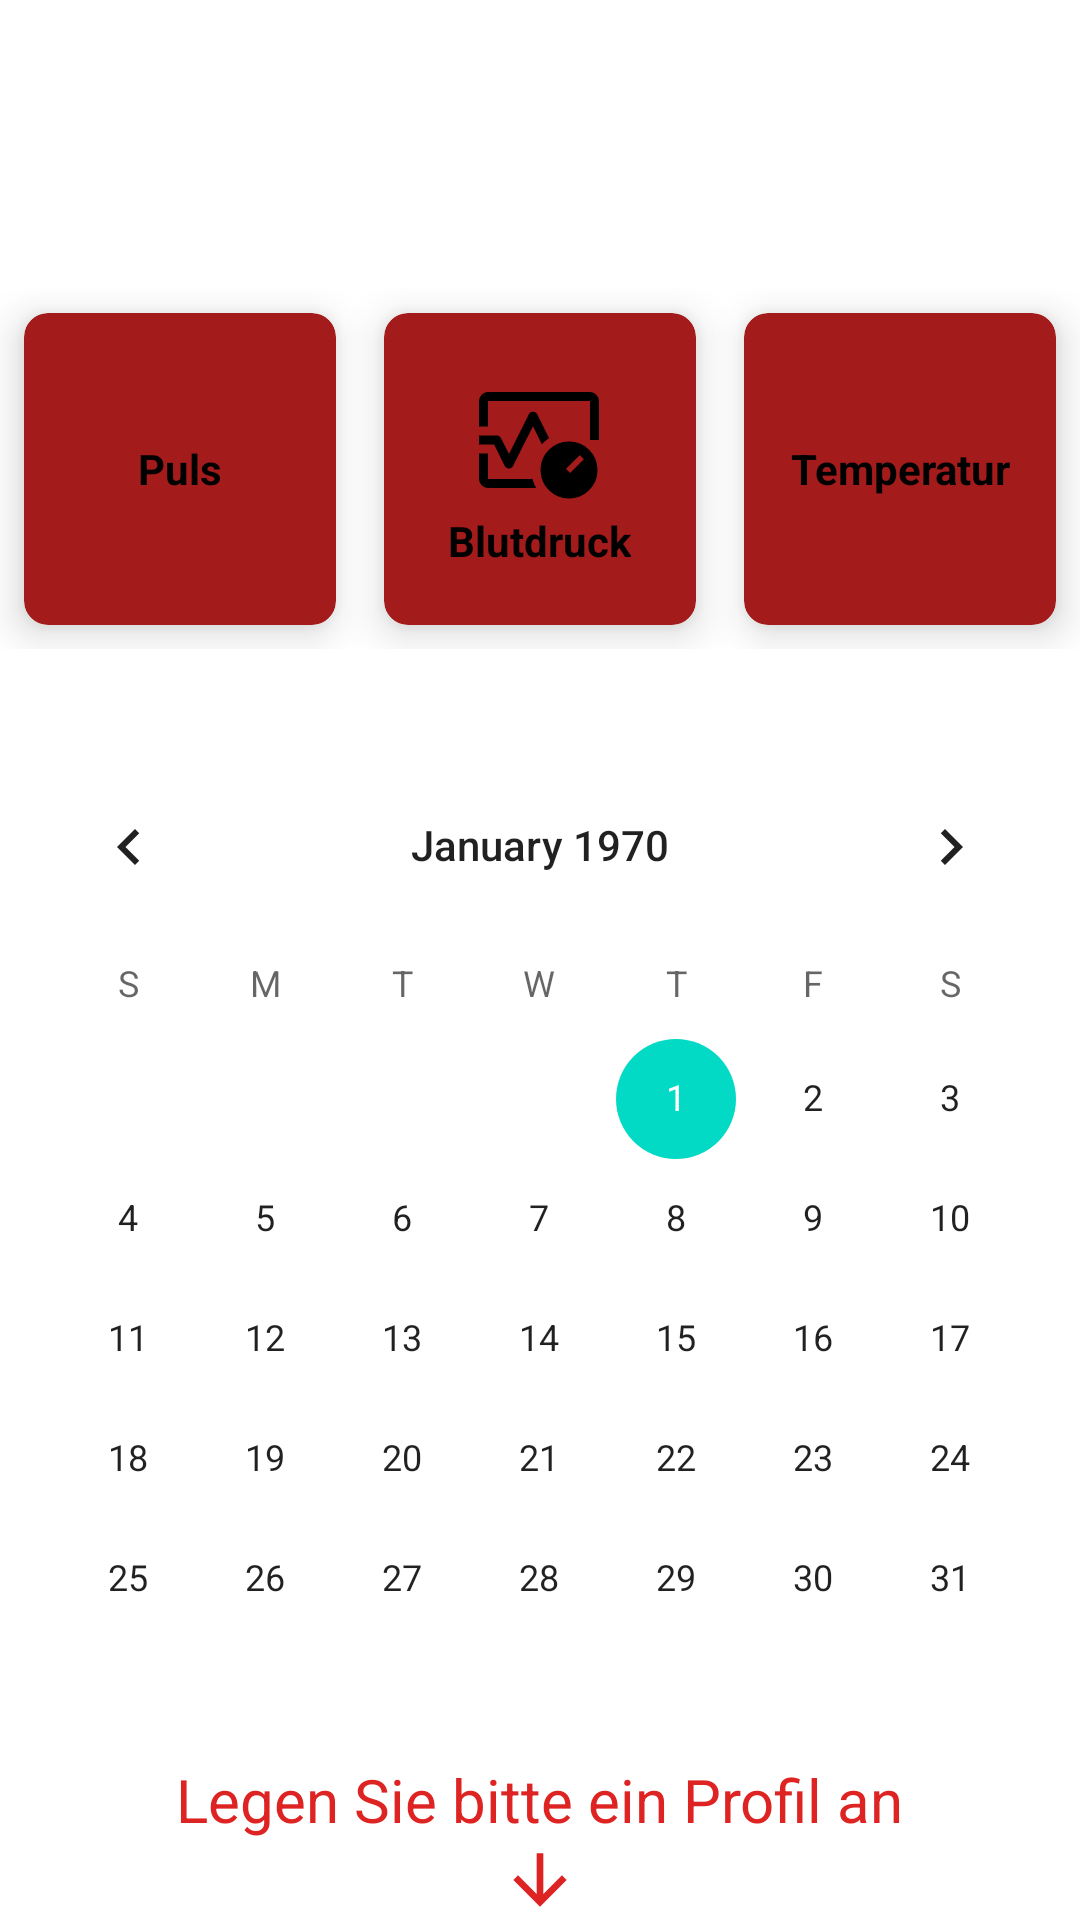

Screen size 1080px x 1920px. Icon name, then its center in pixels as (x,y):
arrow downward redlight: (540,1880)
